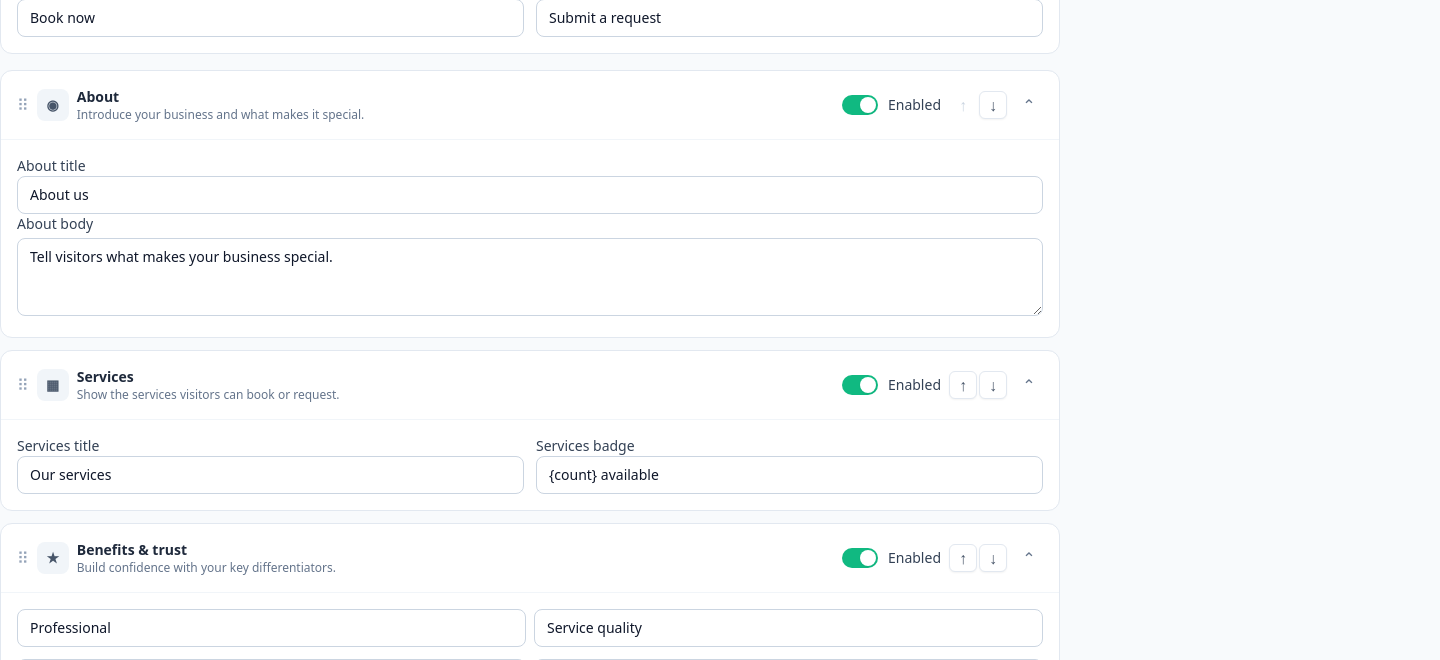
Test: PublicProfileSettingsCard › updates live preview when about body changes
The width and height of the screenshot is (1440, 660).
(page scrolled)
Replace the text in the text box with test id "mini-site-about-body" with "Preview about copy": (530, 277) [17, 238, 1043, 316]
(page scrolled)
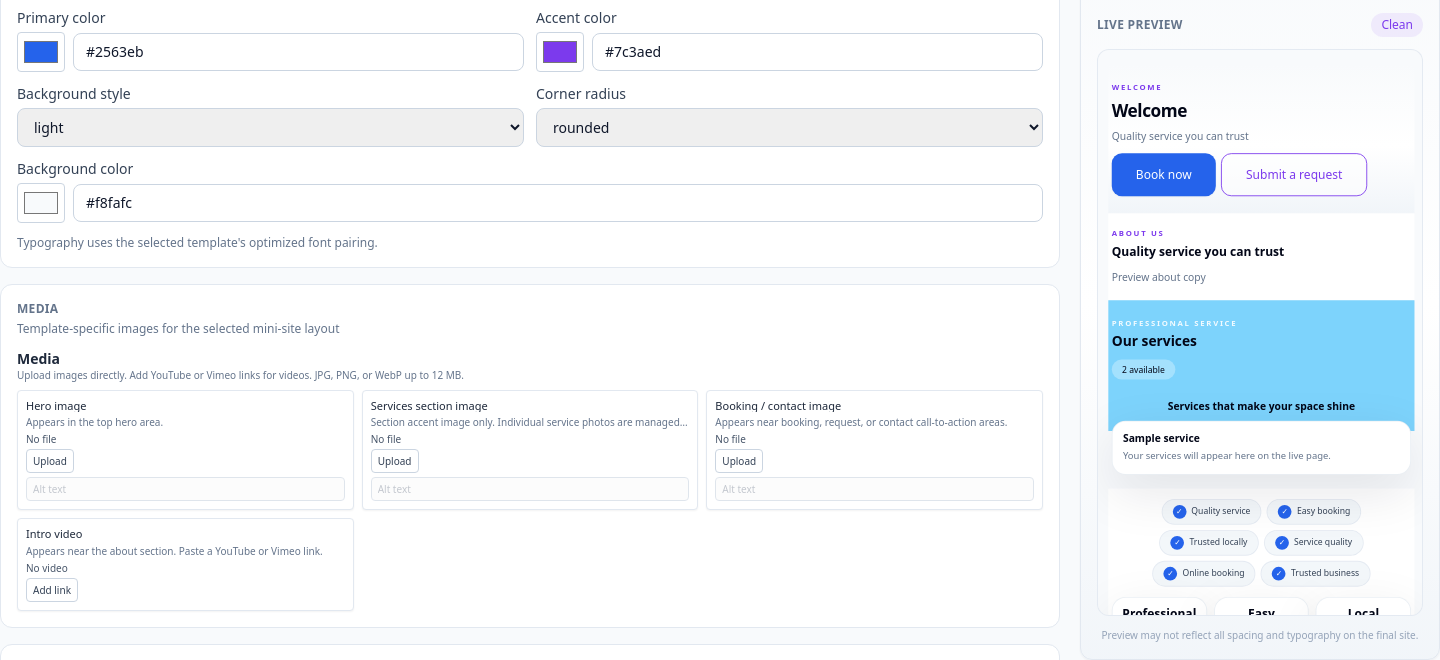
Now the text with test id "mini-site-preview-about-body" reads "Preview about copy", box [1112, 270, 1206, 285]
